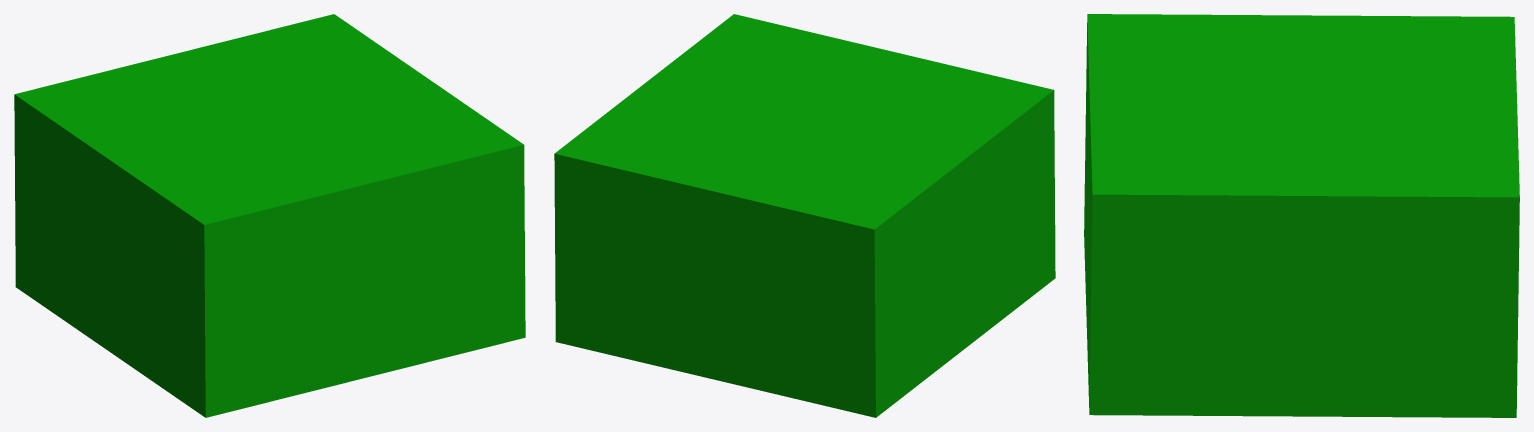
Rendered from shrub.obj.
3 renders of one model, left to right at view 1: azimuth 30°, elevation 25°; view 2: azimuth 150°, elevation 25°; view 3: azimuth 270°, elevation 25°, orthographic. The views are drawn at different scales.
Visible parts, largest first — view 1: Cube; view 2: Cube; view 3: Cube.
Boxes of the visible parts, x1,y1,x2,y2 form: Cube: (14, 14, 525, 417); Cube: (554, 14, 1055, 417); Cube: (1084, 14, 1519, 417).
Bounding box in the file's own units: 0.5216 × 0.3576 × 0.5253.
